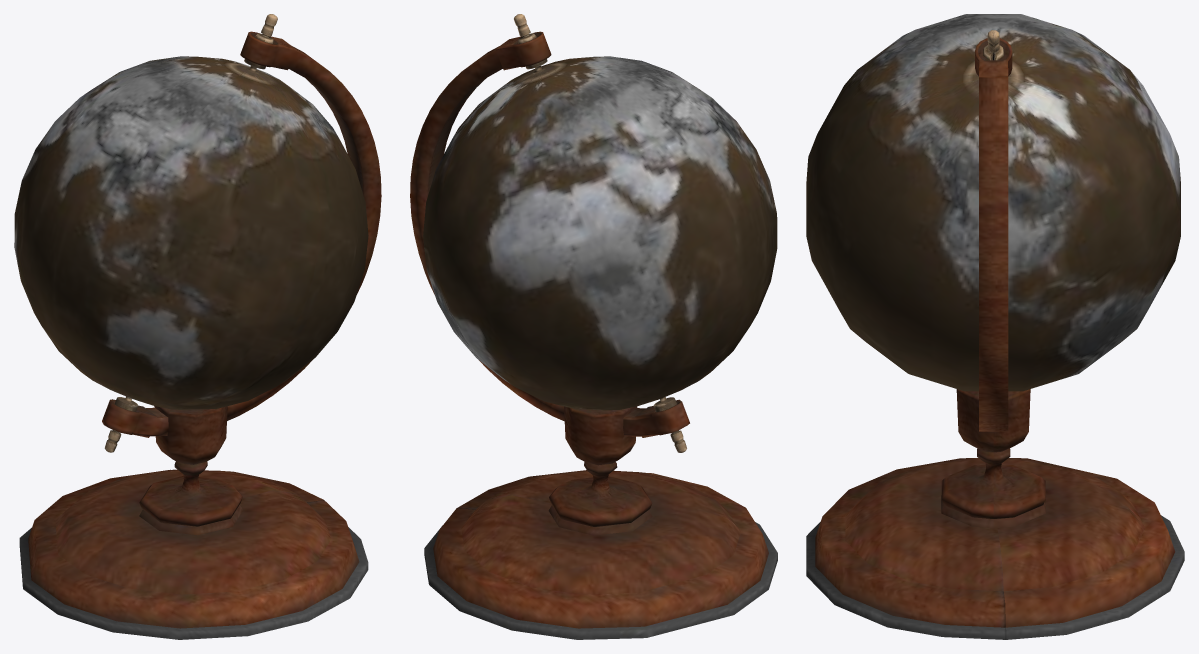
The model's file is antique_globe.glb.
The picture shows the model from 3 angles, left to right: view 1: azimuth 30°, elevation 25°; view 2: azimuth 150°, elevation 25°; view 3: azimuth 270°, elevation 25°; orthographic projection. The views are drawn at different scales.
Parts seen in each view (by area): view 1: antique_globe; view 2: antique_globe; view 3: antique_globe.
Part boxes in pixels (bbox=[...]): antique_globe: bbox=[14, 14, 381, 639]; antique_globe: bbox=[410, 14, 777, 639]; antique_globe: bbox=[806, 14, 1184, 639].
Size of what is drawn, in the model's own units: 1.11 by 1.68 by 1.01.
Materials: 1 (1 with a texture image).
